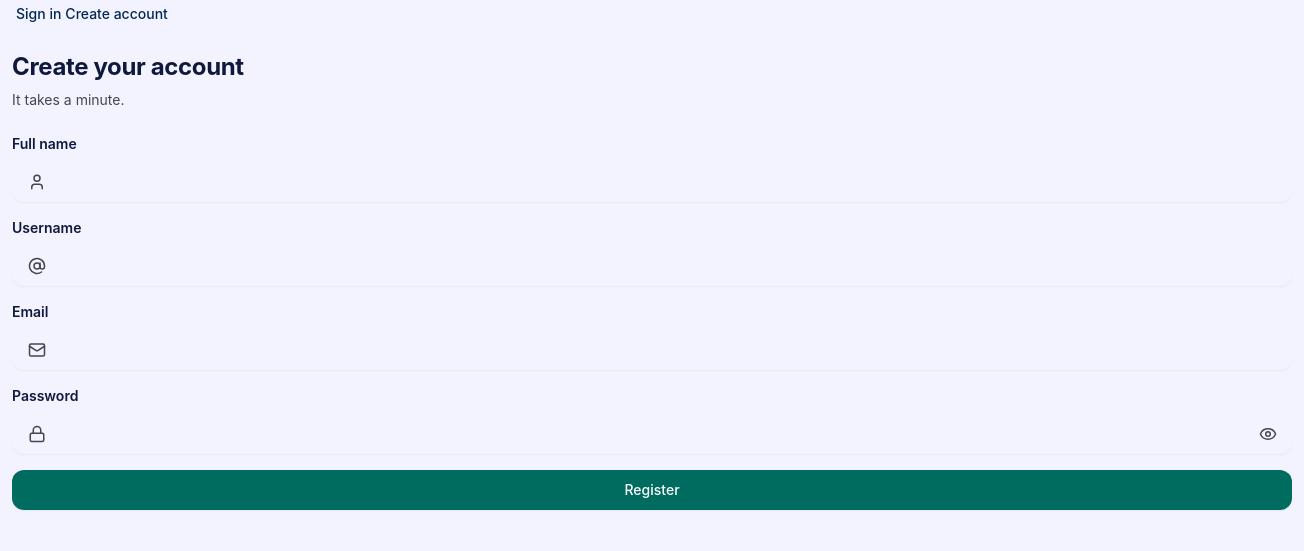
Test: AuthForm › maps validation details onto the fields
Type "Ann" into the field labelled "Full name" at (652, 182), box [12,162,1292,202]
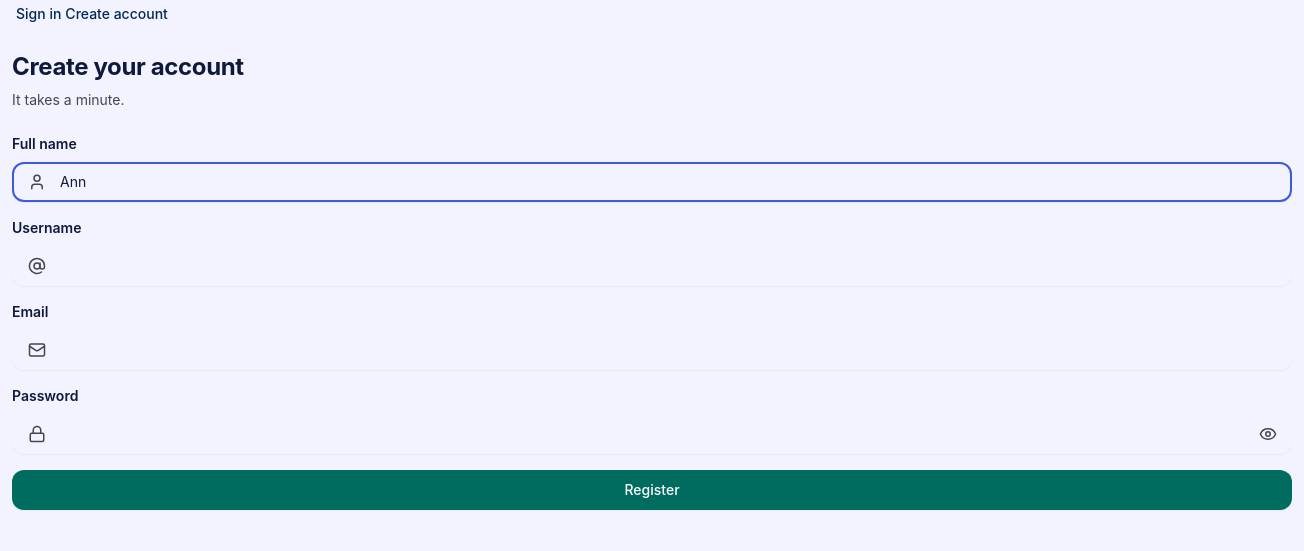
Type "ann" into the field labelled "Username" at (652, 266), box [12,246,1292,286]
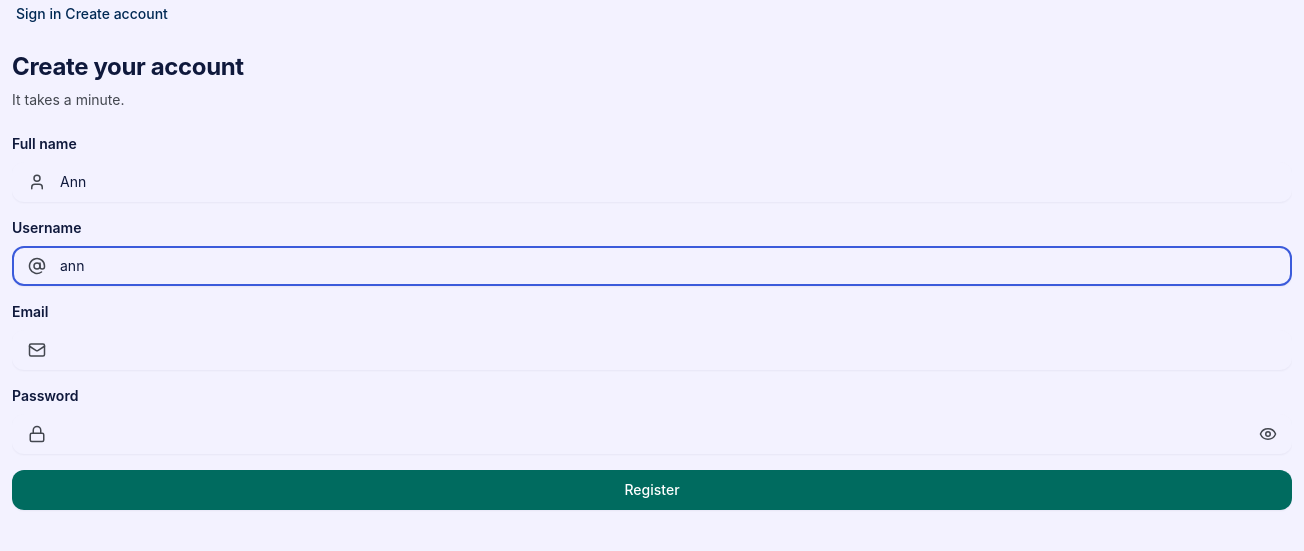
Type "ann@x.com" into the field labelled "Email" at (652, 350), box [12,330,1292,370]
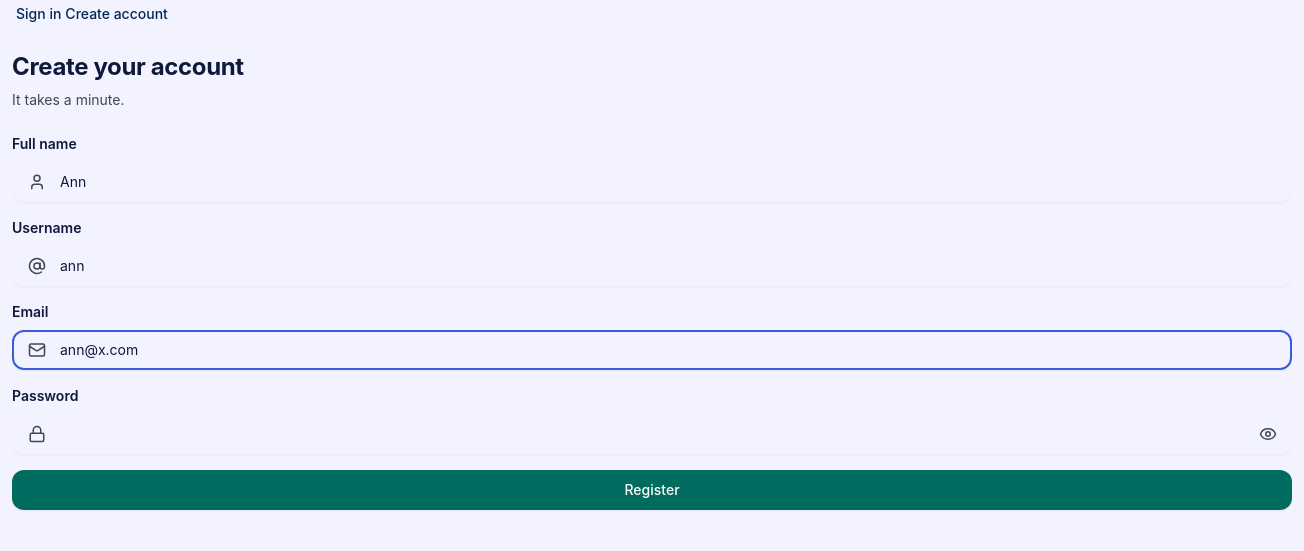
Type "long-enough-pass" into the password field labelled "Password" at (652, 434), box [12,414,1292,454]
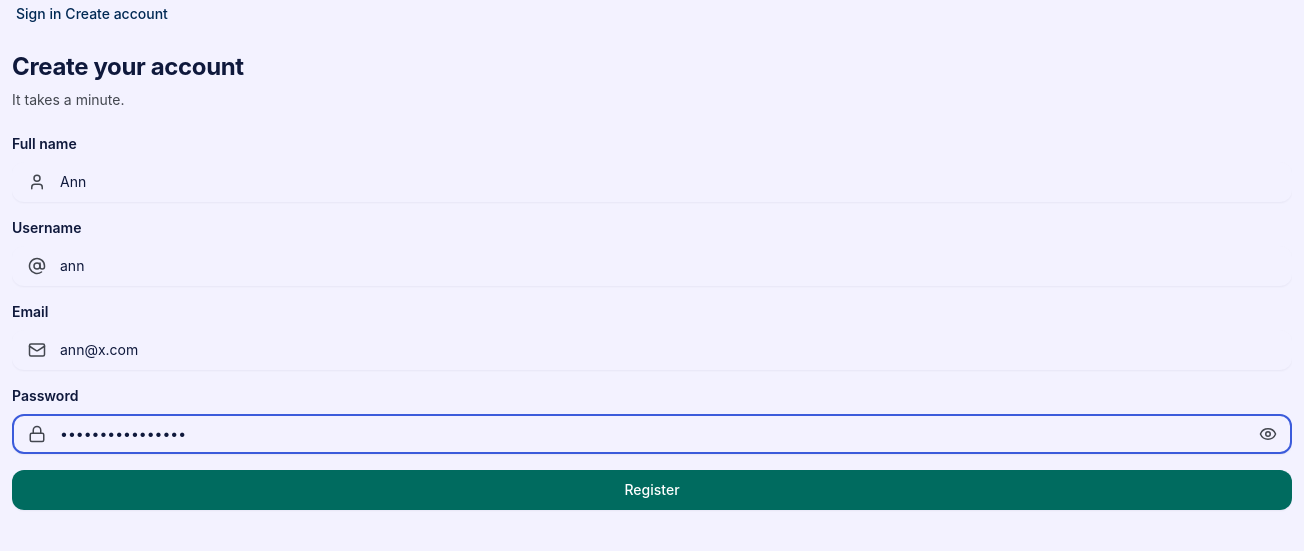
Click the button "Register" at (652, 490), box [12,470,1292,510]
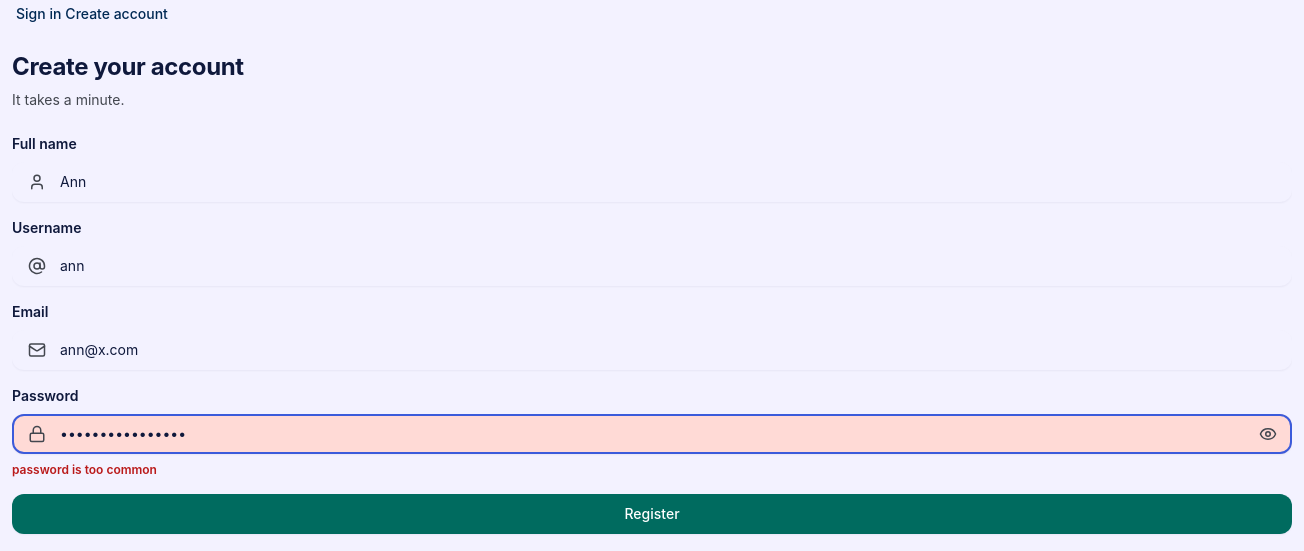
Expected: the text "password is too common" is shown, [12,462,157,477]
